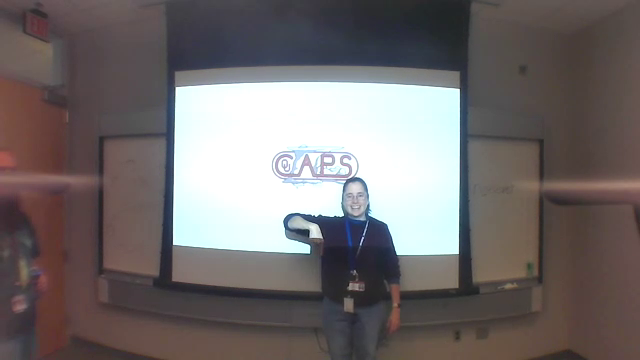down: (306, 218, 325, 258)
